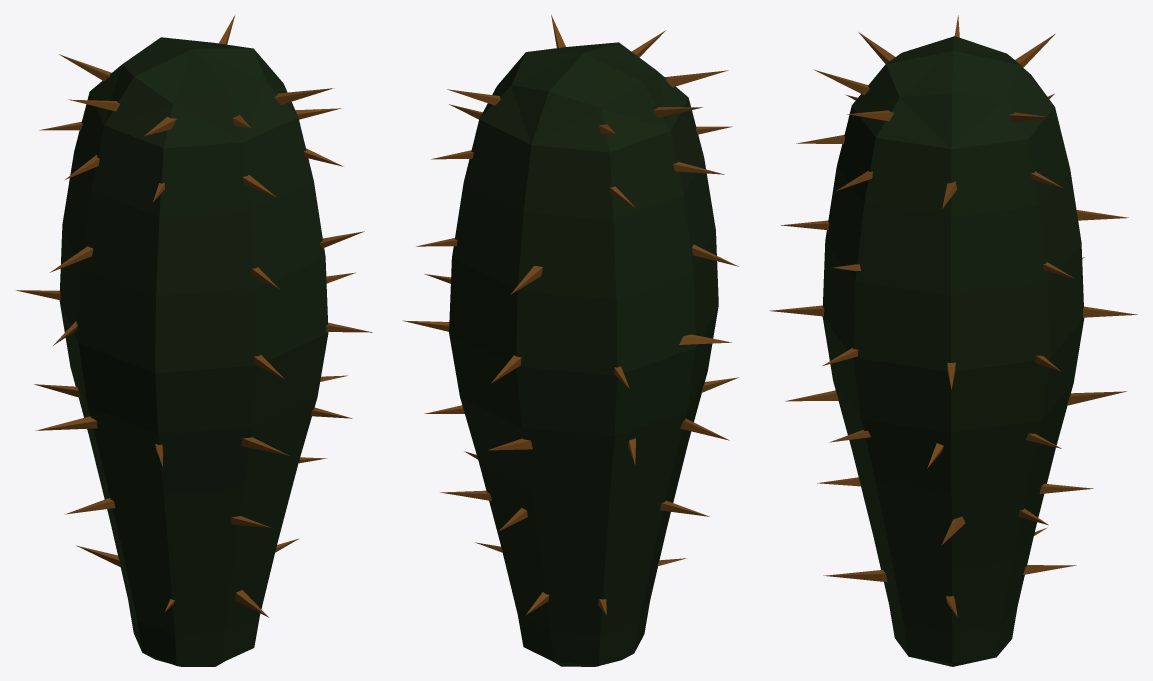
File: Cactus_1.obj
The picture shows the model from 3 angles, left to right: view 1: azimuth 30°, elevation 25°; view 2: azimuth 150°, elevation 25°; view 3: azimuth 270°, elevation 25°; orthographic projection.
Parts seen in each view (by area): view 1: Cactus_1; view 2: Cactus_1; view 3: Cactus_1.
Boxes of the visible parts, x1,y1,x2,y2 form: Cactus_1: (16, 14, 372, 666); Cactus_1: (402, 14, 738, 666); Cactus_1: (769, 15, 1137, 666).
Bounding box in the file's own units: 0.5497 × 1.01 × 0.5629.
